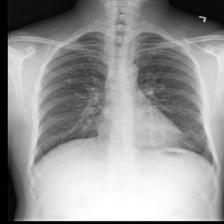normal: (27, 26, 220, 182)
